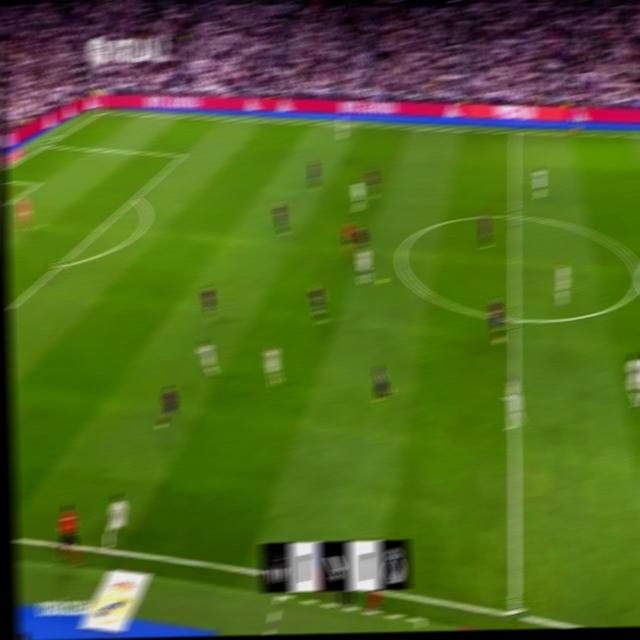bigarea_top_inner: (176, 147, 188, 162)
bigarea_top_outter: (42, 138, 53, 149)
bottom_arc_area_intersection: (53, 257, 66, 272)
corner: (95, 106, 108, 116)
halfcircle_bottom: (505, 305, 522, 331)
halfcircle_top: (506, 204, 523, 227)
midline_bottom_intersection: (504, 595, 526, 626)
midline_top_intersection: (509, 125, 520, 138)
smallarea_top_inner: (31, 178, 43, 189)
top_arc_area_intersection: (130, 191, 140, 204)
